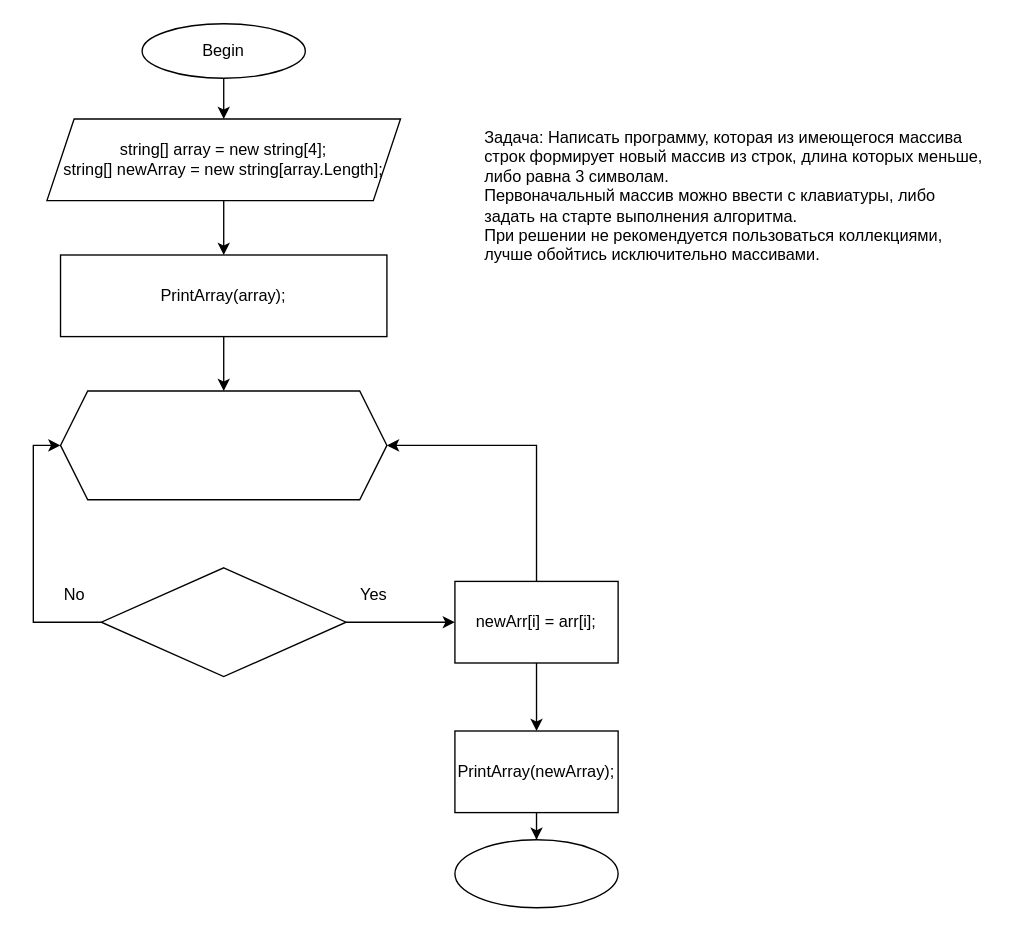
Image size: 1009x932. Some labels were removed from this diagram. The shapes that lost their labels are listed below. From the top down, each one's box as (x1, y1, x2, y2) in pixels, then its label:
(59, 390, 387, 500): for (int i = 0; i < arr.Length; i++)
(100, 566, 346, 677): if (arr[i].Length < 4)
(454, 838, 618, 908): End
